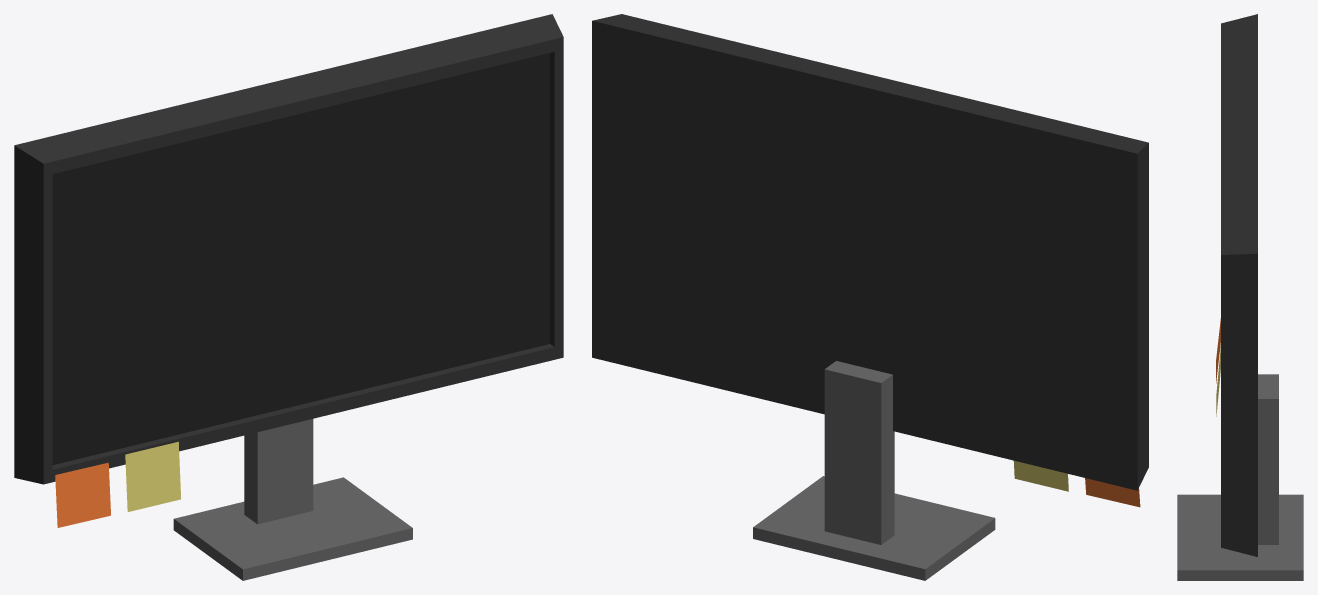
The model's file is monitor1.glb.
The picture shows the model from 3 angles, left to right: view 1: azimuth 30°, elevation 25°; view 2: azimuth 150°, elevation 25°; view 3: azimuth 270°, elevation 25°; orthographic projection. The views are drawn at different scales.
Visible parts, largest first — view 1: monitor1, stickyNotes; view 2: monitor1, stickyNotes; view 3: monitor1, stickyNotes.
Part boxes in pixels (<box>): monitor1: <box>14,14,563,580</box>; stickyNotes: <box>55,441,180,527</box>; monitor1: <box>592,14,1148,580</box>; stickyNotes: <box>1013,460,1140,507</box>; monitor1: <box>1177,14,1303,580</box>; stickyNotes: <box>1216,318,1220,416</box>.
Size of the model in its own units: 1.39 by 1.11 by 0.3093.
